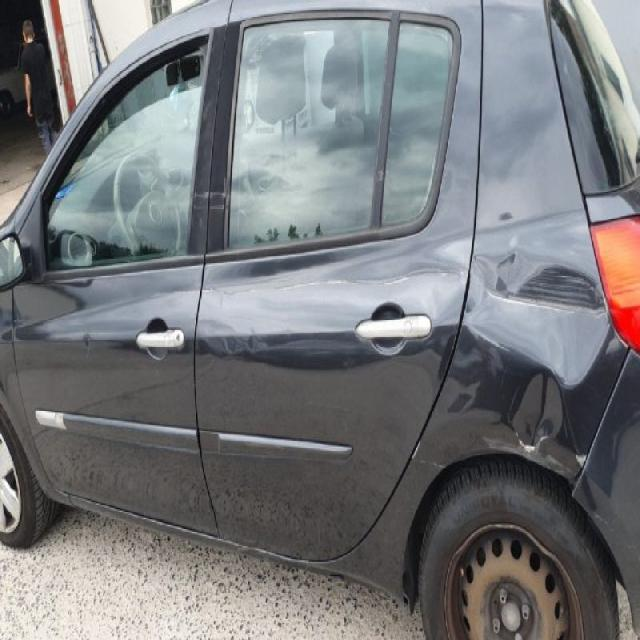porte-avant: (8, 20, 228, 543)
